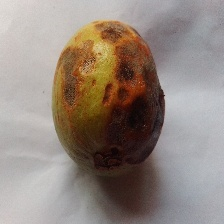guava: (13, 52, 202, 198)
